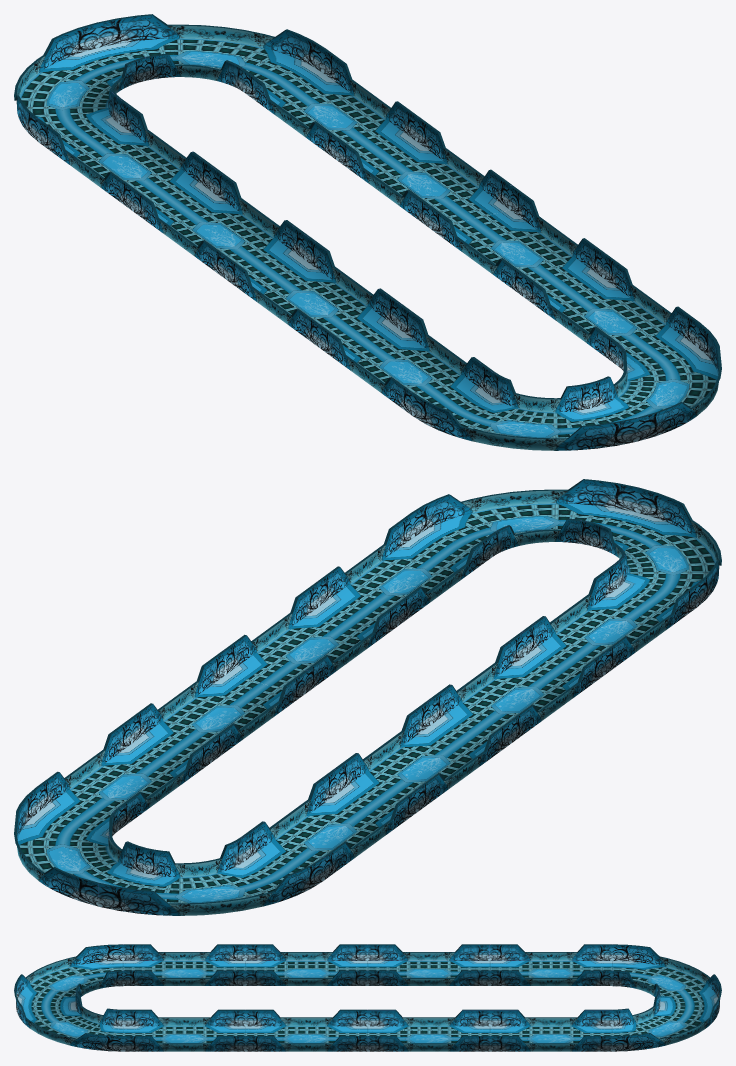
Rendered from roadRace.glb.
3 renders of one model, top to bottom at view 1: azimuth 30°, elevation 25°; view 2: azimuth 150°, elevation 25°; view 3: azimuth 270°, elevation 25°, orthographic. The views are drawn at different scales.
Visible parts, largest first — view 1: Object_2; view 2: Object_2; view 3: Object_2.
Boxes of the visible parts, box(x1,y1,x2,y2) form: Object_2: box(14, 14, 721, 450); Object_2: box(14, 479, 721, 915); Object_2: box(14, 944, 721, 1051).
Size of the model in its own units: 215 by 17.08 by 695.
1 material, 1 textured.
